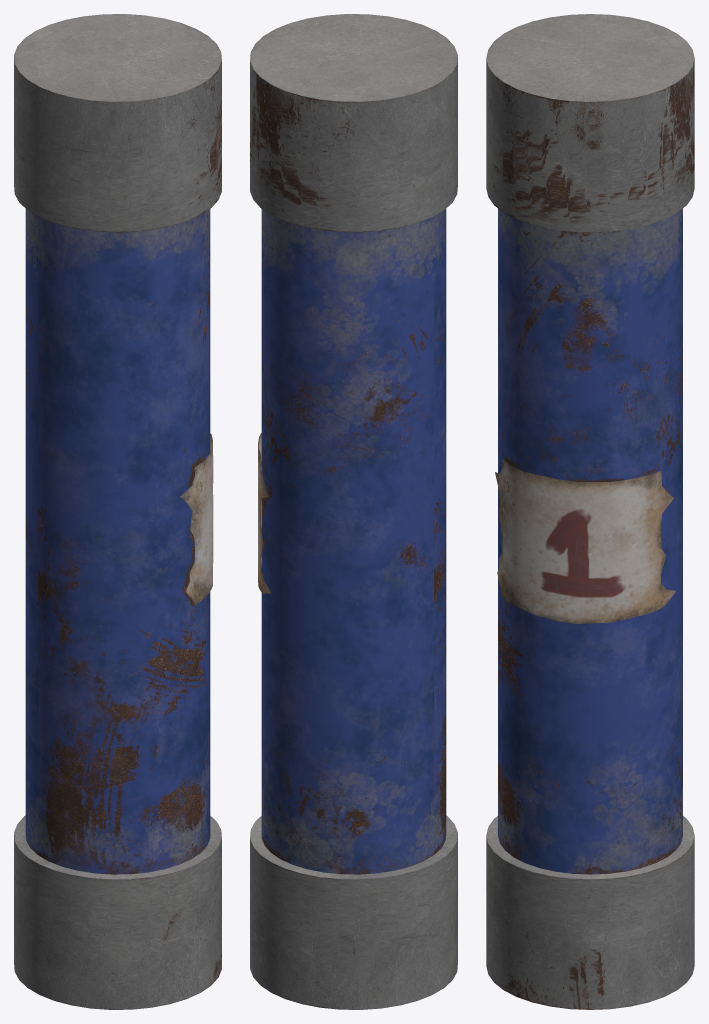
File: fuzivel 1.fbx
3 views of the same model, side by side, from view 1: azimuth 30°, elevation 25°; view 2: azimuth 150°, elevation 25°; view 3: azimuth 270°, elevation 25° (orthographic).
Visible parts, largest first — view 1: Circle.002; view 2: Circle.002; view 3: Circle.002.
Part boxes in pixels (x1,y1,x2,y2): Circle.002: [14, 14, 221, 1009]; Circle.002: [250, 14, 457, 1009]; Circle.002: [486, 14, 694, 1009].
Bounding box in the file's own units: 8.25 × 39.65 × 8.25.
